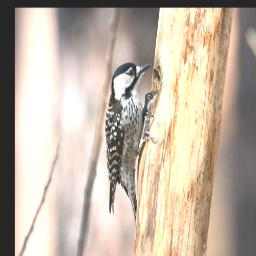Woodpecker: (106, 61, 158, 220)
